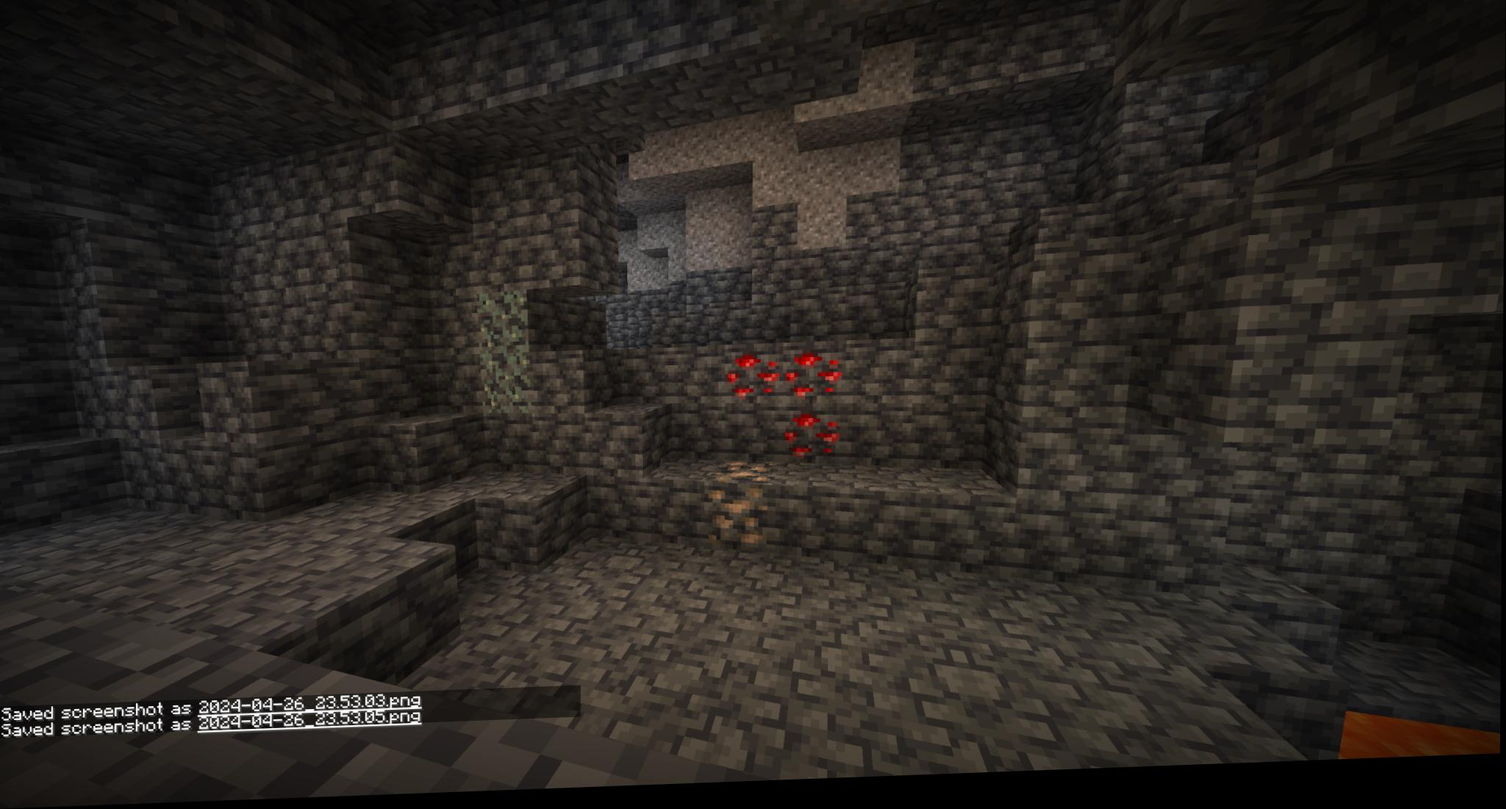iron ore: (709, 465, 777, 547)
redstone ore: (774, 354, 836, 416), (779, 408, 837, 469), (724, 350, 780, 413)
